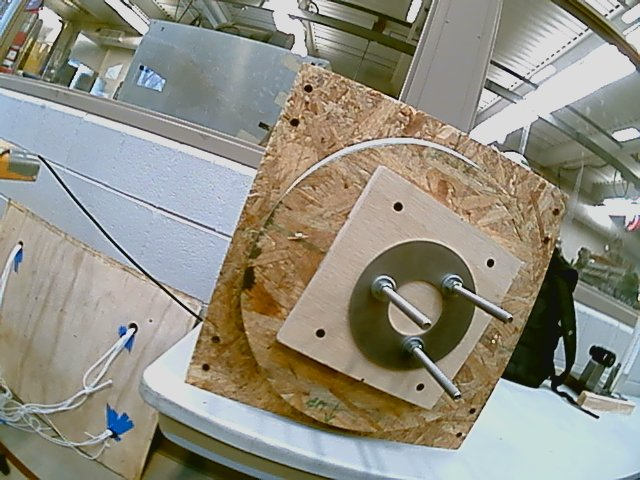bolt: (418, 319, 435, 334), (450, 389, 465, 404), (503, 313, 515, 328)
